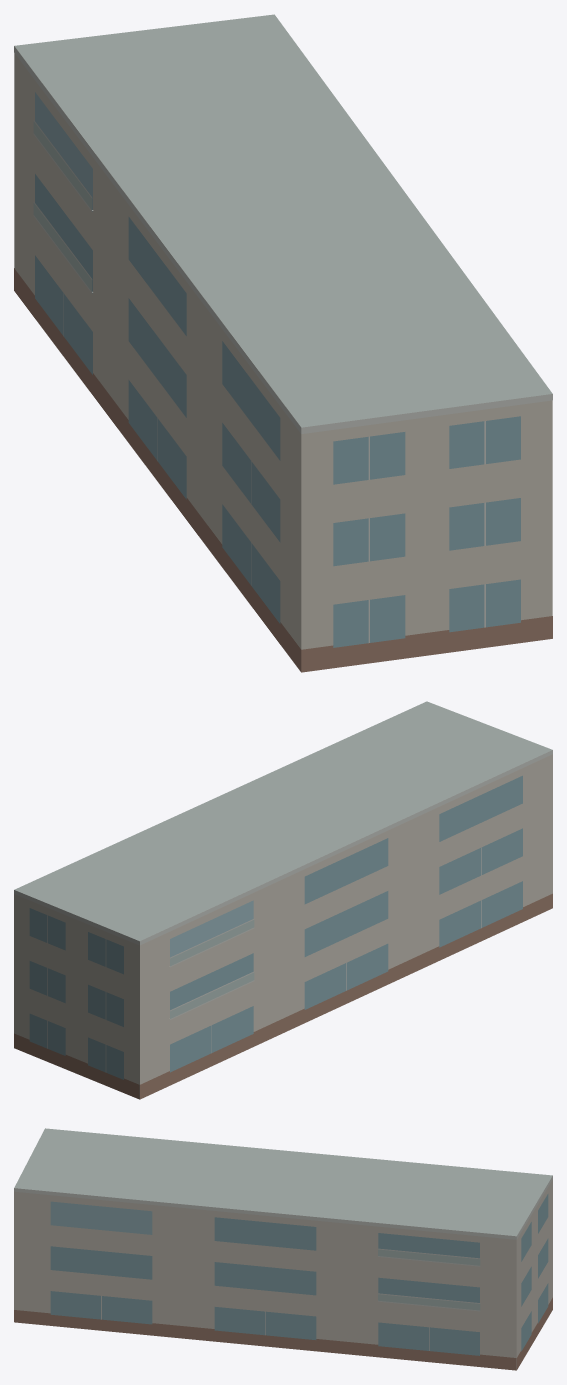
File: survey-upis-32528309.glb
3 views of the same model, one above another, from view 1: azimuth 30°, elevation 25°; view 2: azimuth 150°, elevation 25°; view 3: azimuth 270°, elevation 25° (orthographic). The views are drawn at different scales.
Visible parts, largest first — view 1: survey-upis-32528309.tmp; view 2: survey-upis-32528309.tmp; view 3: survey-upis-32528309.tmp.
Part boxes in pixels (bbox=[...]): survey-upis-32528309.tmp: bbox=[14, 14, 552, 672]; survey-upis-32528309.tmp: bbox=[14, 701, 552, 1099]; survey-upis-32528309.tmp: bbox=[14, 1128, 552, 1370].
Size of the model in its own units: 15.78 by 9.15 by 33.29.
